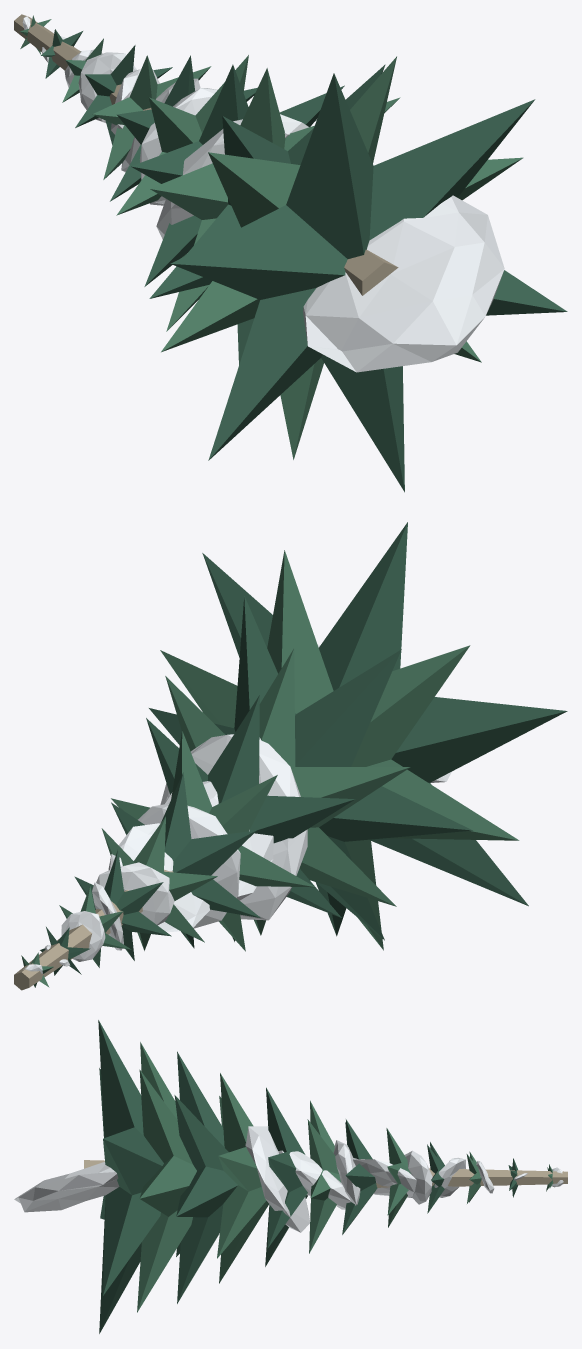
The model's file is TreeConiferB3.fbx.
3 views of the same model, one above another, from view 1: azimuth 30°, elevation 25°; view 2: azimuth 150°, elevation 25°; view 3: azimuth 270°, elevation 25° (orthographic). The views are drawn at different scales.
Parts seen in each view (by area): view 1: M_Tree_Pine_Dark, M_Tree_Snow, M_Tree_Pine_Mid, M_Tree_PaleWood; view 2: M_Tree_Pine_Dark, M_Tree_Pine_Mid, M_Tree_Snow, M_Tree_PaleWood; view 3: M_Tree_Pine_Dark, M_Tree_Pine_Mid, M_Tree_Snow, M_Tree_PaleWood.
Boxes of the visible parts, <box> form: M_Tree_Pine_Dark: <box>41,29,567,492</box>; M_Tree_Snow: <box>22,16,504,372</box>; M_Tree_Pine_Mid: <box>20,15,523,459</box>; M_Tree_PaleWood: <box>14,14,398,295</box>; M_Tree_Pine_Dark: <box>40,522,567,975</box>; M_Tree_Pine_Mid: <box>21,550,519,987</box>; M_Tree_Snow: <box>23,644,451,973</box>; M_Tree_PaleWood: <box>14,869,173,990</box>; M_Tree_Pine_Dark: <box>98,1020,518,1333</box>; M_Tree_Pine_Mid: <box>137,1042,553,1312</box>; M_Tree_Snow: <box>14,1126,563,1232</box>; M_Tree_PaleWood: <box>84,1160,567,1187</box>.
Bounding box in the file's own units: 2090 × 2185 × 3755.
